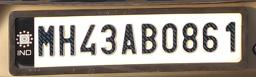0: (161, 21, 178, 54)
1: (223, 20, 238, 54)
3: (100, 22, 117, 58)
4: (78, 24, 98, 57)
6: (201, 20, 220, 53)
8: (181, 21, 199, 54)
A: (121, 22, 137, 58)
B: (139, 21, 159, 56)
H: (56, 23, 77, 57)
M: (36, 22, 57, 57)
